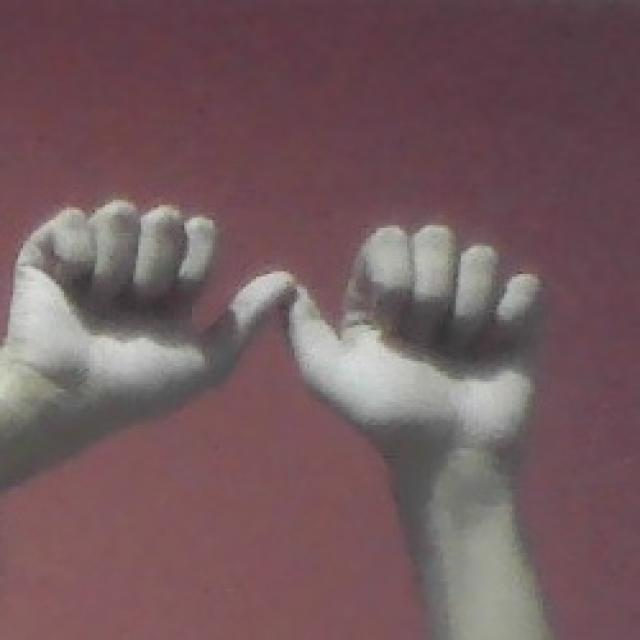Alphabet-A: (8, 198, 553, 442)
